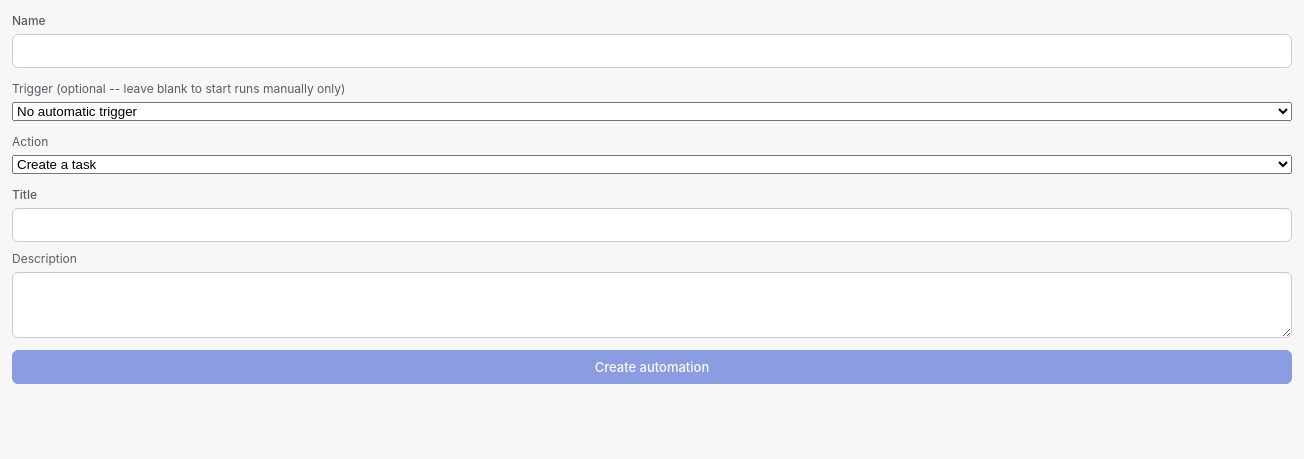
Scenario: CreateWorkflowForm › shows the backend's own validation error verbatim
Type "Broken" into the field labelled "Name" at [652, 51], box top-left (12, 34), bottom-right (1292, 68)
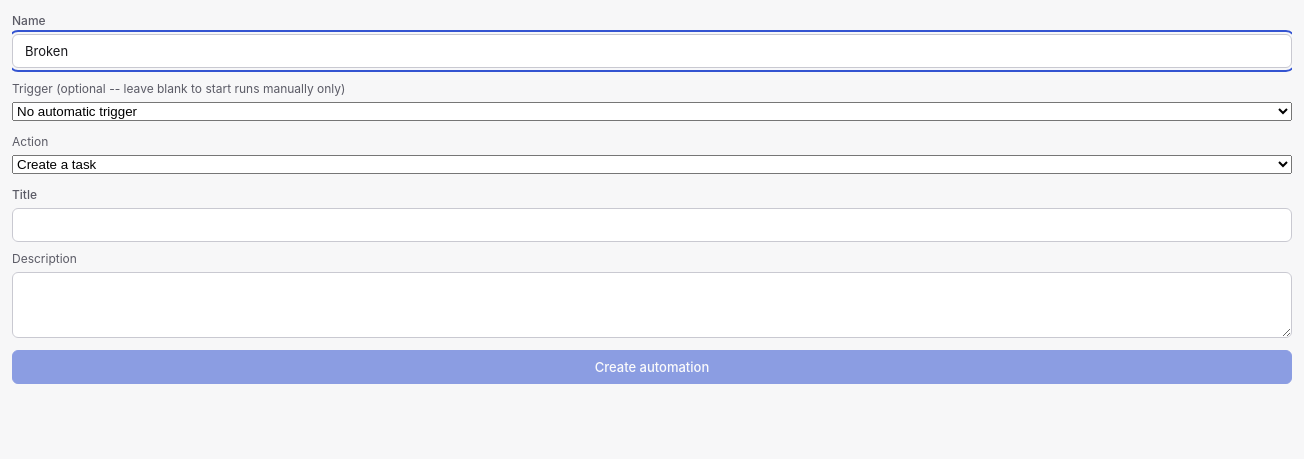
Type "Task" into the field labelled "Title" at [652, 225], box top-left (12, 208), bottom-right (1292, 242)
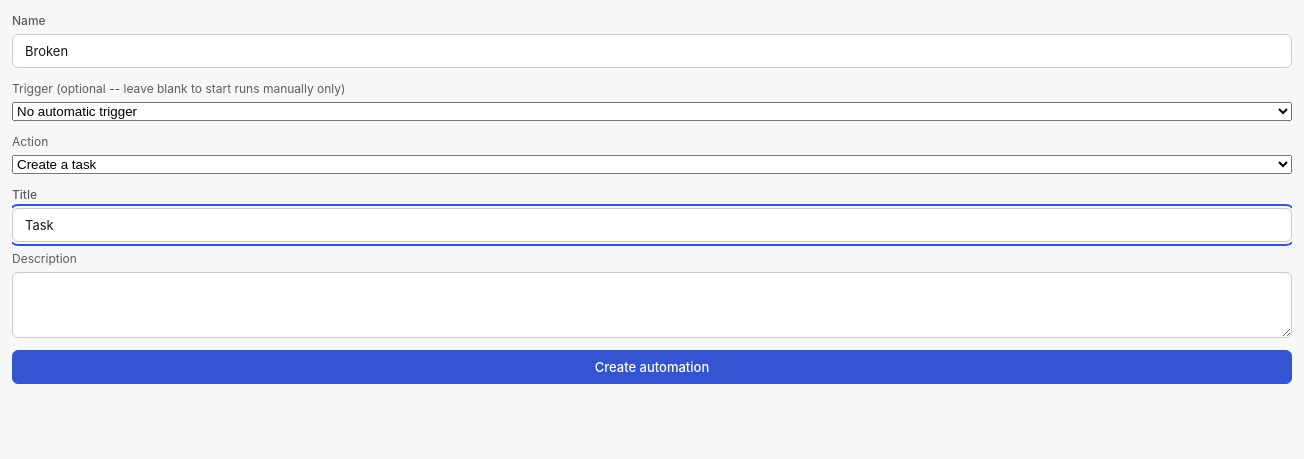
Click the button "Create automation" at [652, 367], box top-left (12, 350), bottom-right (1292, 384)
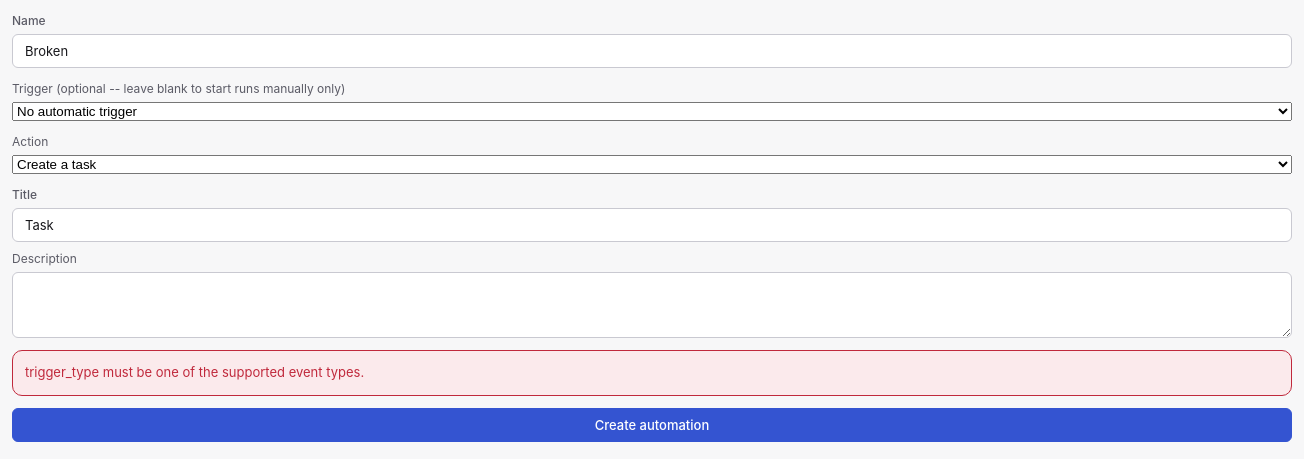
expect the text "trigger_type must be one of the supported event types." is shown: met, box top-left (25, 364), bottom-right (364, 380)
